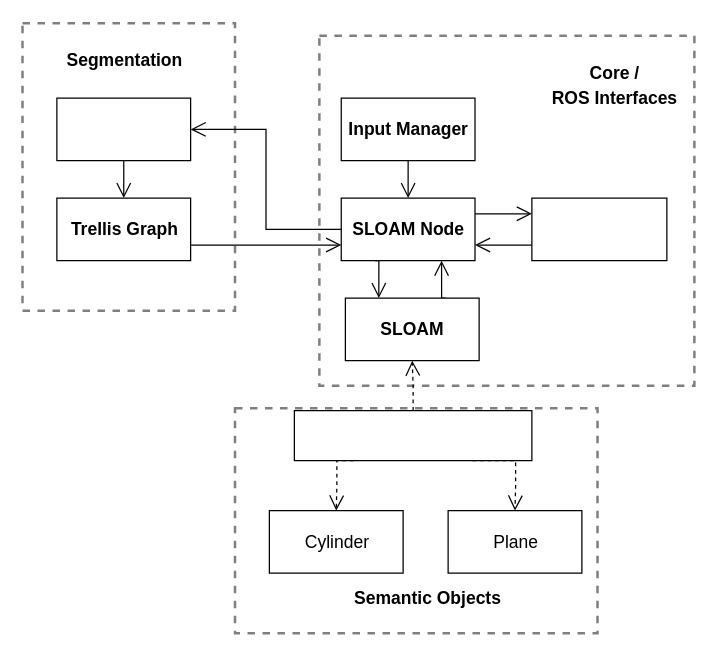
Some shapes in this 718 by 655 pixel diagram are drawn without their labels. Each missing label, with the centre of its shape:
"<<Interface>> Semantic Object<T>" goes at pixel 412 435.
"Inference" goes at pixel 123 129.
"Semantic Map" goes at pixel 599 229.
